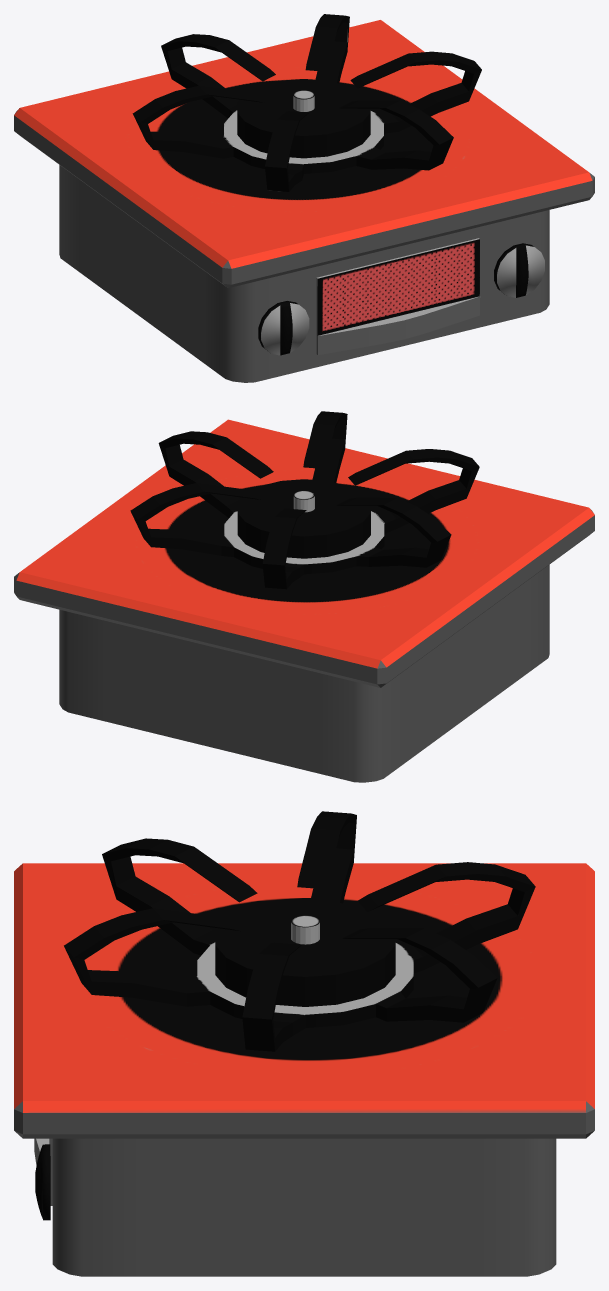
File: gas_stove.FBX
3 views of the same model, one above another, from view 1: azimuth 30°, elevation 25°; view 2: azimuth 150°, elevation 25°; view 3: azimuth 270°, elevation 25° (orthographic). The views are drawn at different scales.
Parts seen in each view (by area): view 1: Box001, Cylinder002, Box002, Cylinder003, Cylinder001; view 2: Box001, Cylinder002; view 3: Box001, Cylinder002, Cylinder001.
Part boxes in pixels (x1,y1,x2,y2): Box001: (14,20,594,382); Cylinder002: (132,14,481,191); Box002: (316,238,480,354); Cylinder003: (258,301,309,355); Cylinder001: (494,243,544,297); Box001: (14,419,594,782); Cylinder002: (130,411,479,589); Box001: (14,863,594,1276); Cylinder002: (64,811,535,1051); Cylinder001: (35,1144,50,1220).
Bounding box in the file's own units: 140 × 140 × 74.09.
4 materials, 4 textured.
